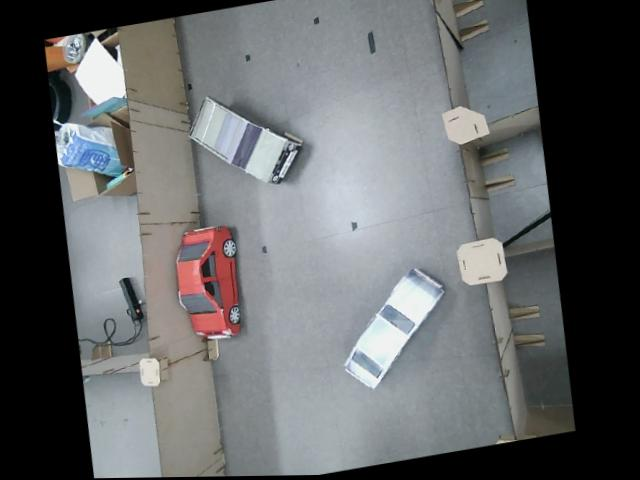car: (329, 262, 460, 394), (181, 79, 311, 198), (166, 223, 249, 344)
